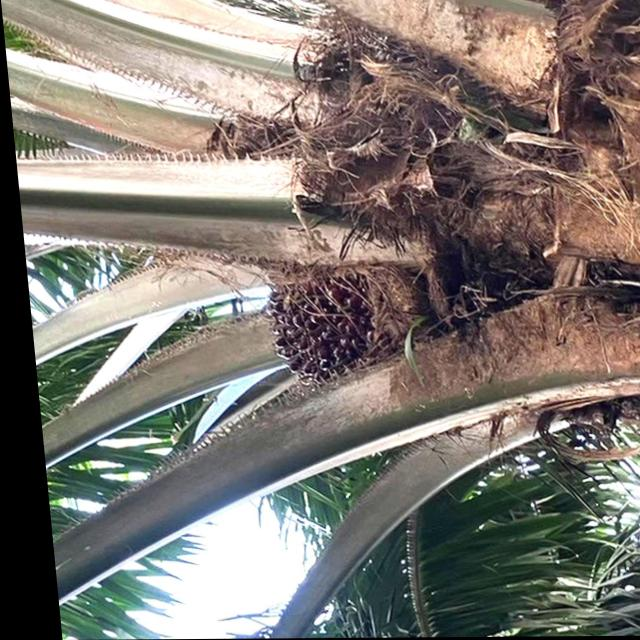ripe: (245, 249, 430, 405)
